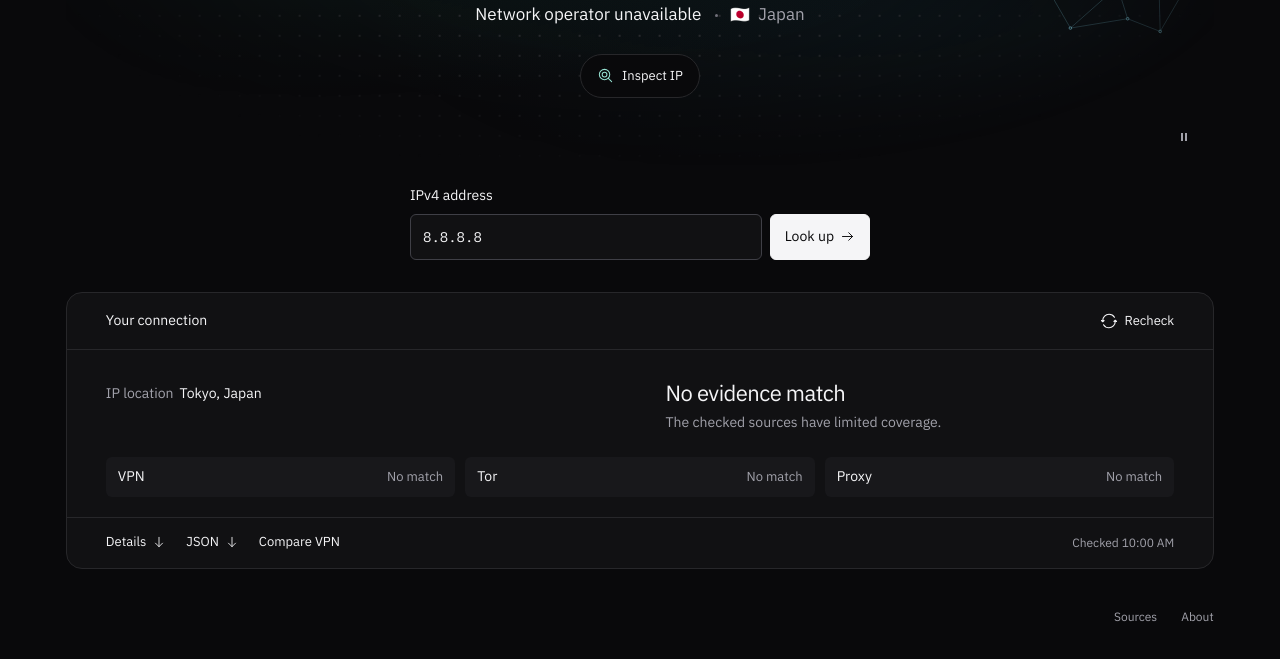
Test: focused live connection screen › shows residential-proxy uncertainty in legacy Details
(page scrolled)
What coordinates should you click on to do the following:
click the button "Details"
I would click on:
 (136, 543)
Its box is [106, 518, 166, 568].
(page scrolled)
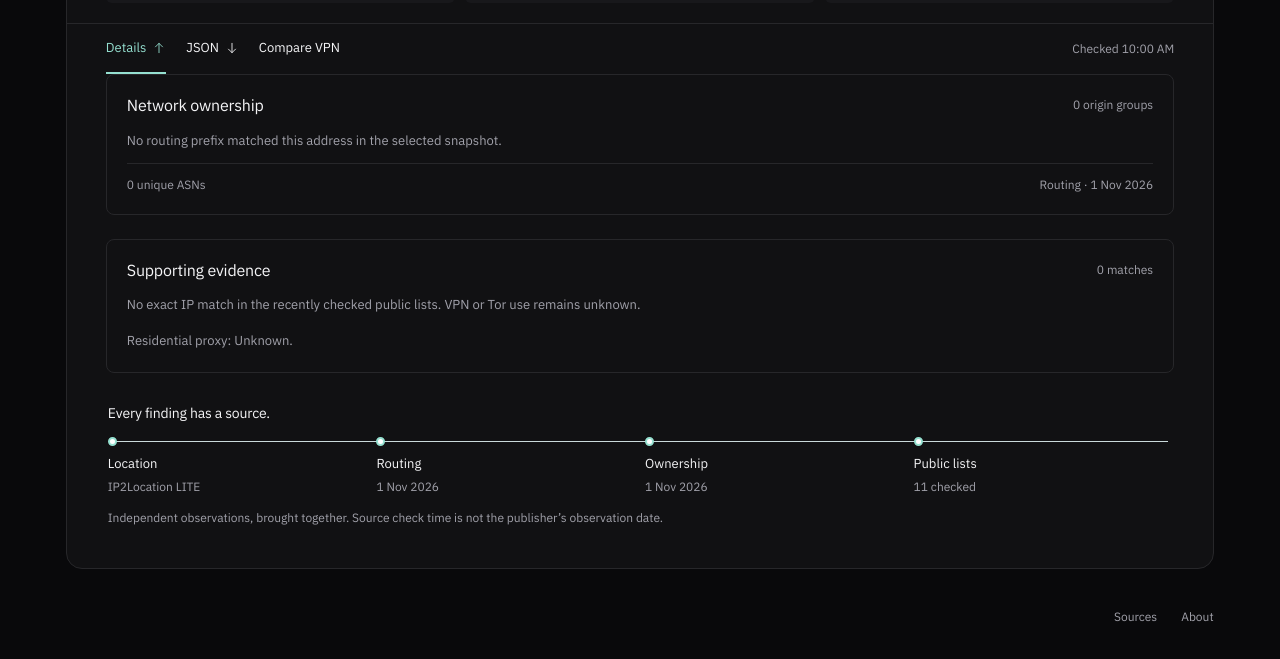
Result: the text "Residential proxy: Unknown." is shown at [127, 332, 293, 349]
